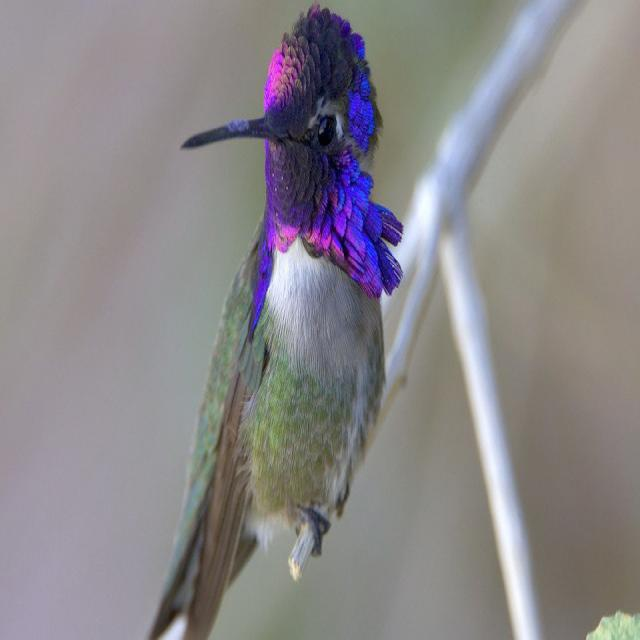Humming Bird: (150, 8, 387, 619)
